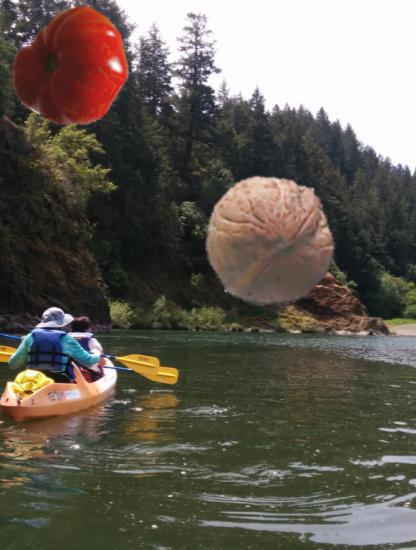Tomato: (13, 4, 135, 126)
Walnut: (202, 173, 338, 309)
